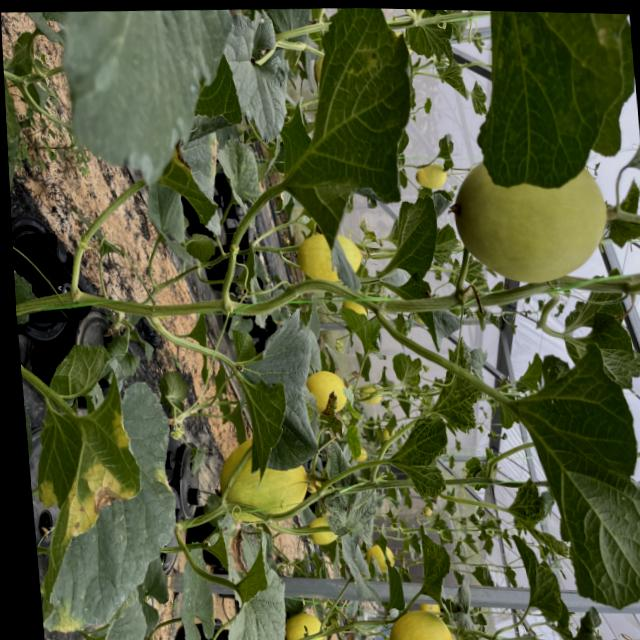CMV: (387, 409, 453, 503), (422, 338, 483, 435), (413, 525, 456, 609), (504, 477, 548, 533), (345, 423, 364, 460)
SLCV: (320, 487, 383, 548)
alternaria leaf blight: (21, 370, 188, 640), (270, 6, 434, 216), (206, 513, 248, 583)
downy mildew: (228, 311, 322, 474), (215, 132, 264, 214)
healthy: (511, 342, 640, 624), (206, 526, 288, 640), (223, 6, 295, 133), (558, 281, 640, 391), (383, 184, 443, 284), (85, 593, 147, 640), (381, 553, 406, 615)
powdery mildew: (178, 574, 216, 640)
